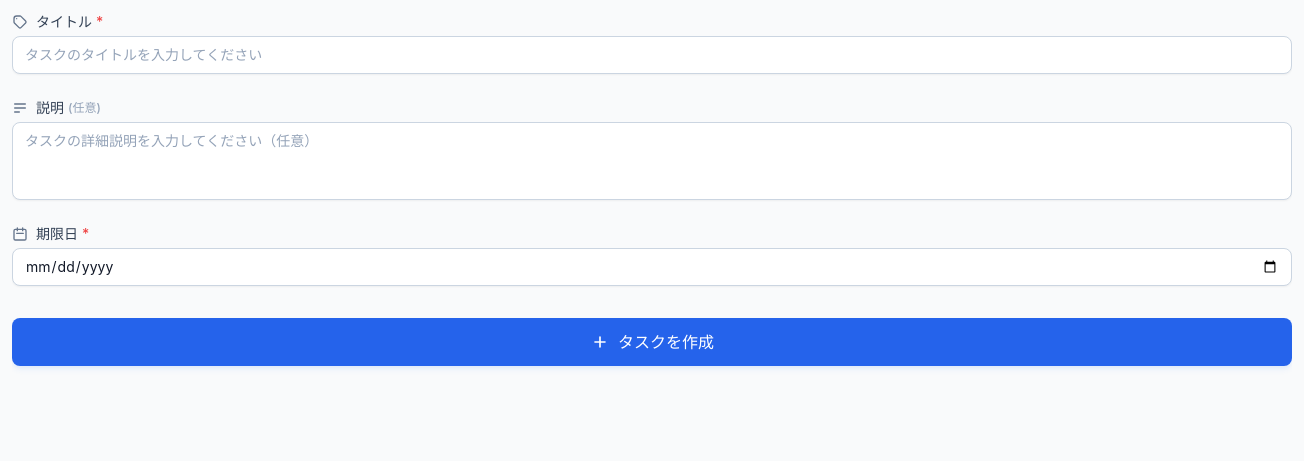
Test: TaskCreateForm › エラーハンドリング › バリデーションエラー時に詳細メッセージを表示する
This screenshot has width=1304, height=461.
//  フォームに入力
Step 1. Type "重複タスク" into the field labelled "タイトル *" → [652, 55], box [12,36,1292,74]
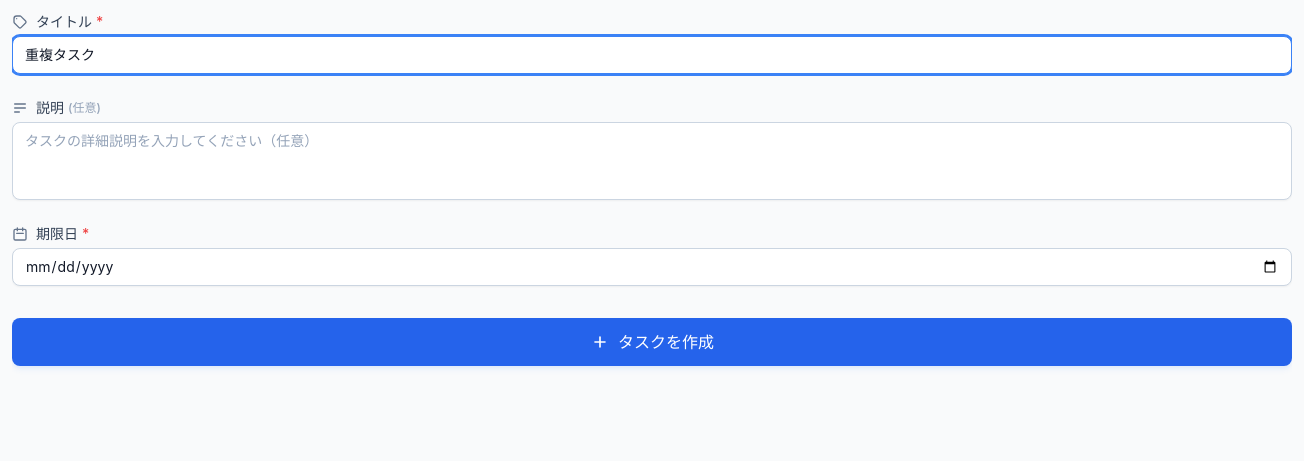
Step 2. Type "2024-12-31" into the date field labelled "期限日 *" → [652, 267], box [12,248,1292,286]
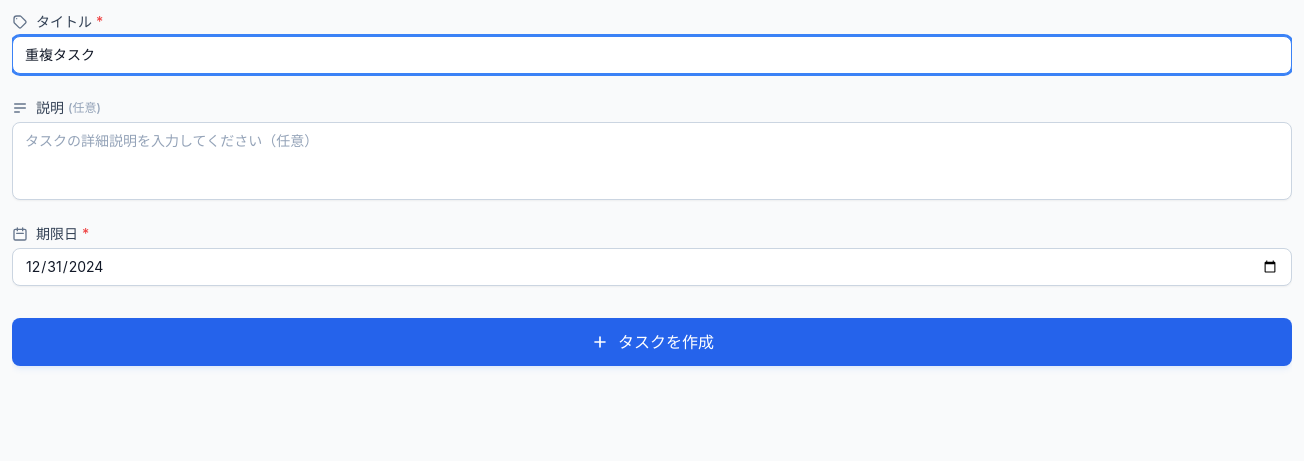
Step 3. Click the button "タスクを作成" → [652, 342], box [12,318,1292,366]
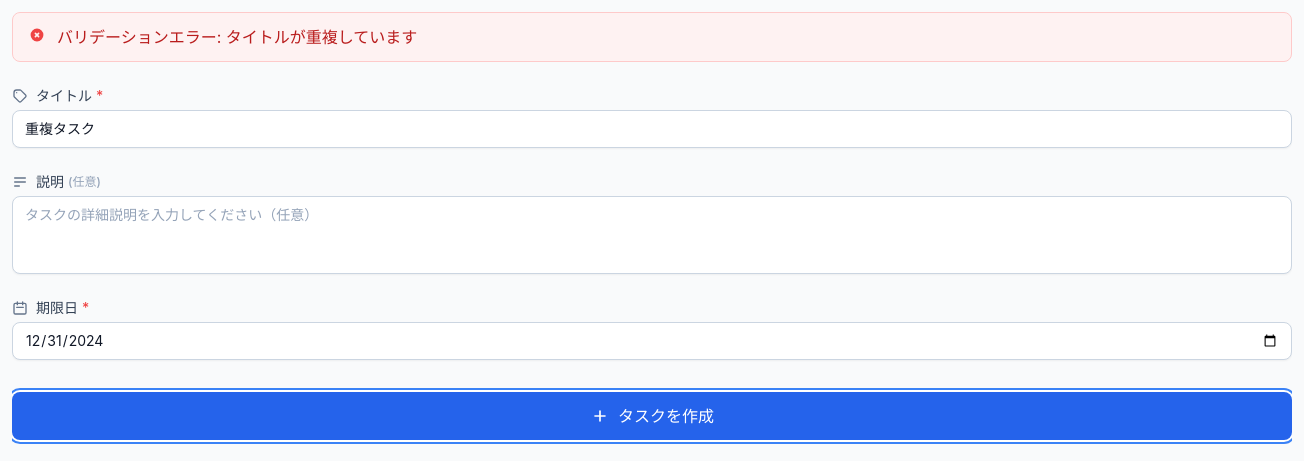
Check: the text "バリデーションエラー: タイトルが重複しています" is shown, box [12,12,1292,62]
